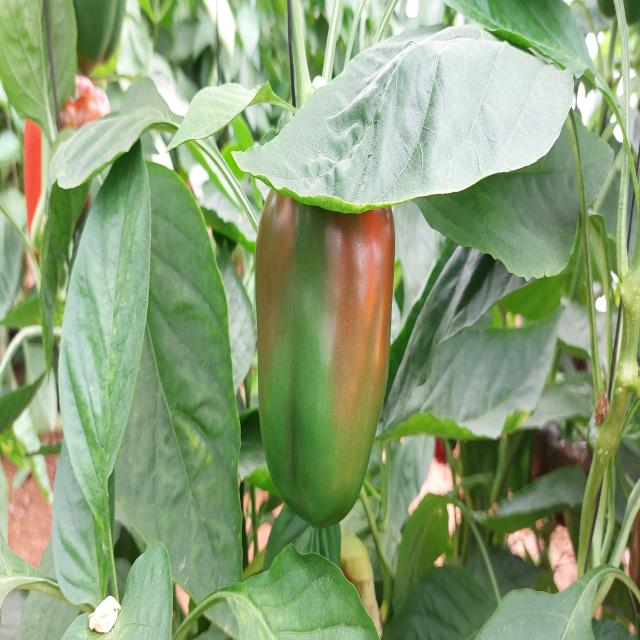BrownishRed--Can-be-Harvested: (252, 178, 399, 536)
